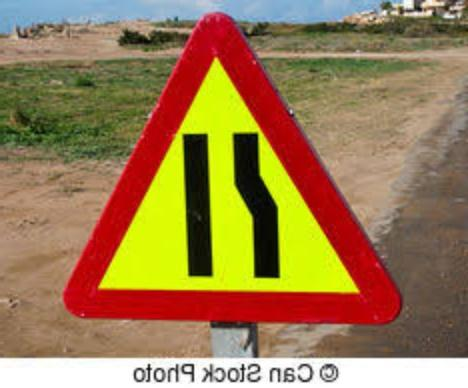narrow_road: (63, 9, 403, 327)
